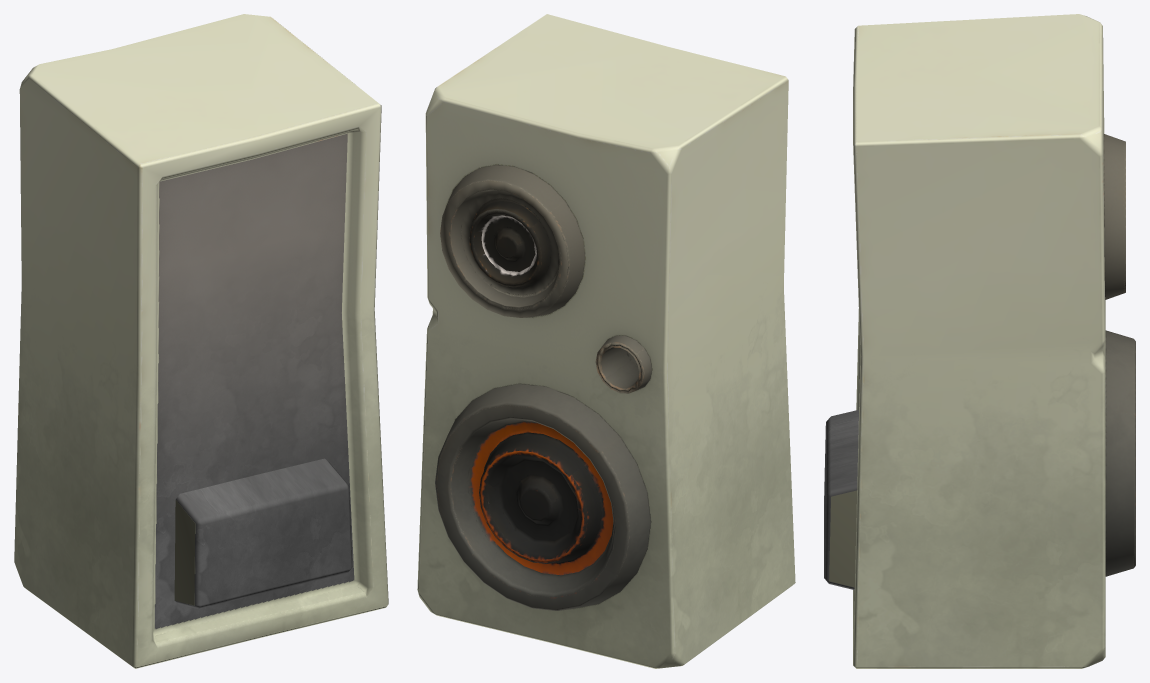
The model's file is SM_LoudSpeakers001.glb.
The picture shows the model from 3 angles, left to right: view 1: azimuth 30°, elevation 25°; view 2: azimuth 150°, elevation 25°; view 3: azimuth 270°, elevation 25°; orthographic projection. The views are drawn at different scales.
Parts seen in each view (by area): view 1: SM_LoudSpeakers001; view 2: SM_LoudSpeakers001; view 3: SM_LoudSpeakers001.
Part boxes in pixels (<box>): SM_LoudSpeakers001: <box>14,14,388,668</box>; SM_LoudSpeakers001: <box>417,14,795,668</box>; SM_LoudSpeakers001: <box>824,14,1135,668</box>.
Bounding box in the file's own units: 2.1 × 4.02 × 2.14.
Materials: 1 (1 with a texture image).
